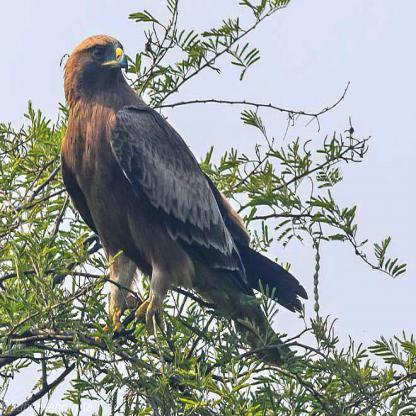Burung: (63, 34, 302, 379)
